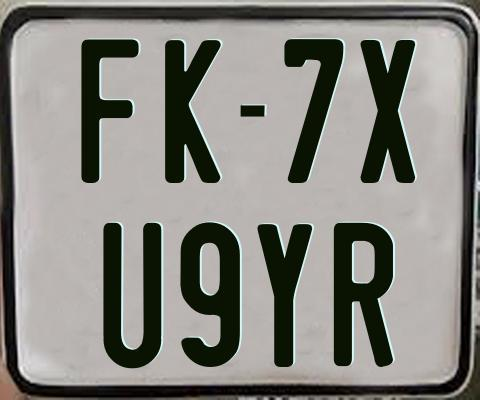7: (281, 39, 342, 189)
9: (177, 221, 237, 372)
F: (79, 37, 141, 185)
K: (163, 40, 224, 185)
R: (334, 220, 394, 364)
U: (101, 221, 160, 368)
X: (358, 39, 413, 183)
Y: (256, 222, 312, 370)
